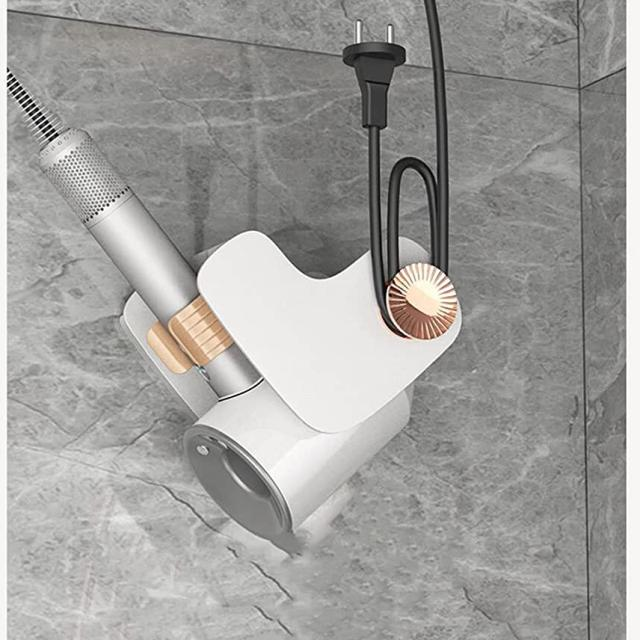dryer: (16, 32, 488, 564)
